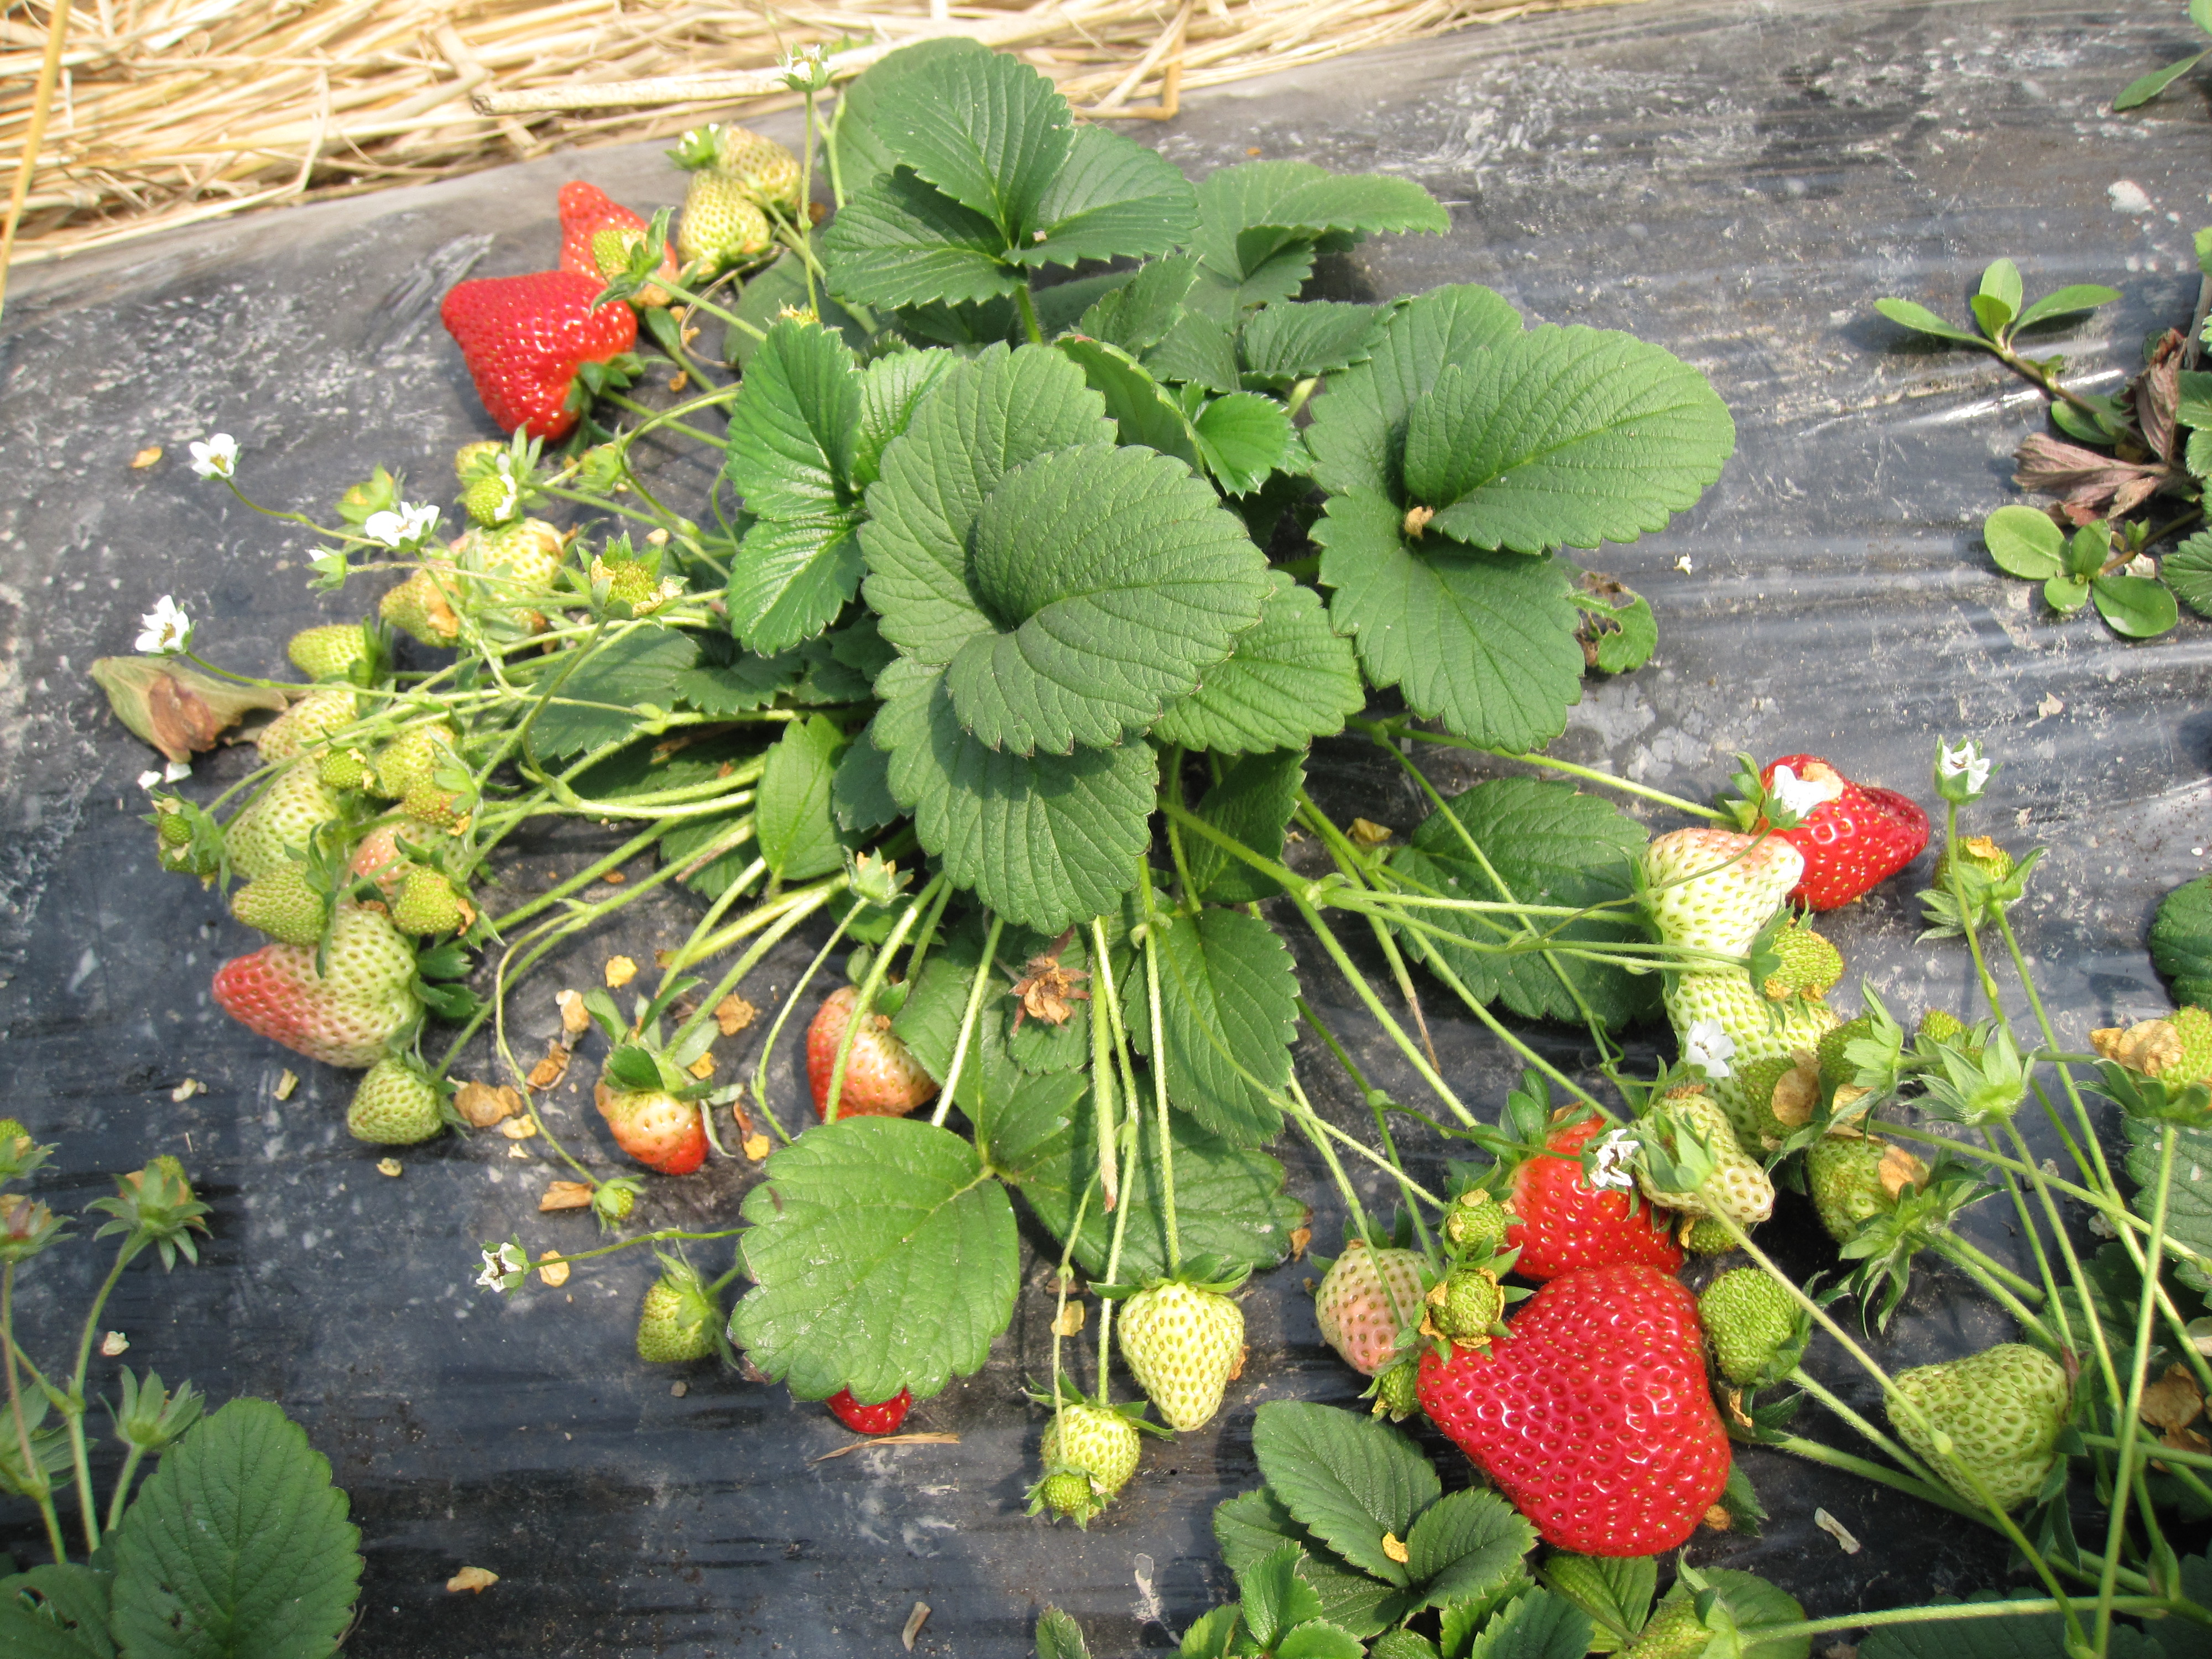StrawberryCircular: (425, 254, 646, 446)
StrawberryCone: (1418, 1270, 1726, 1556)
StrawberryIrremovable: (1883, 1333, 2074, 1507), (207, 910, 420, 1065), (385, 518, 578, 648), (1656, 962, 1853, 1077), (1115, 1272, 1251, 1436), (799, 979, 937, 1131), (1634, 830, 1797, 955), (1629, 1093, 1773, 1225), (536, 160, 672, 300), (594, 1035, 714, 1178), (1308, 1239, 1435, 1371), (1031, 1389, 1144, 1521), (1799, 1129, 1926, 1243), (240, 674, 378, 772), (1700, 1258, 1799, 1389), (226, 763, 357, 857), (669, 173, 772, 282), (218, 856, 334, 951), (707, 108, 815, 207), (366, 709, 481, 791), (348, 1060, 448, 1154), (631, 1263, 721, 1364), (108, 1152, 207, 1239), (273, 615, 387, 687), (326, 904, 413, 997), (1750, 918, 1839, 1004), (1430, 1267, 1512, 1342), (392, 857, 472, 932), (2151, 999, 2209, 1096), (1439, 1182, 1519, 1249), (1374, 1351, 1435, 1427), (456, 471, 531, 528)
StrawberryOther: (1468, 1098, 1689, 1276), (1737, 742, 1933, 917), (810, 1345, 927, 1453)
StrawberryRemovable: (1425, 1267, 1723, 1554), (1474, 1103, 1693, 1276), (432, 267, 644, 443), (1731, 742, 1935, 917), (810, 1345, 925, 1453)
